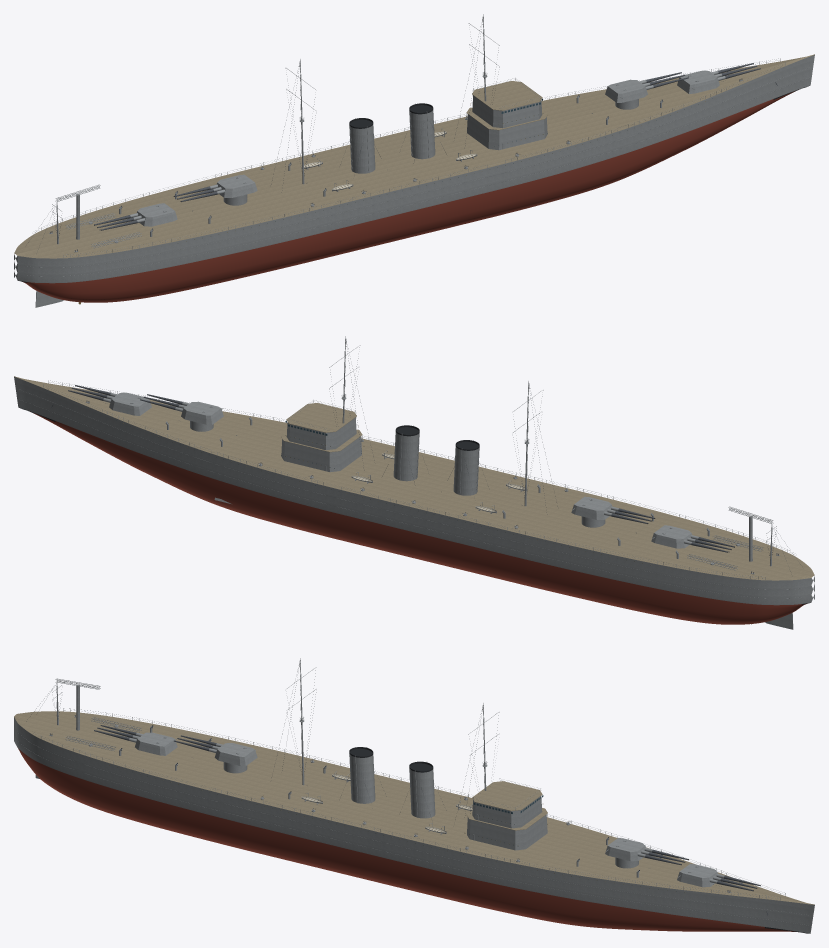
Rendered from missouri_bb23.glb.
3 renders of one model, top to bottom at view 1: azimuth 30°, elevation 25°; view 2: azimuth 150°, elevation 25°; view 3: azimuth 330°, elevation 25°, orthographic.
Parts seen in each view (by area): view 1: Missouri class; view 2: Missouri class; view 3: Missouri class.
Boxes of the visible parts, x1=… form: Missouri class: x1=14, y1=14, x2=814, y2=307; Missouri class: x1=14, y1=336, x2=814, y2=629; Missouri class: x1=14, y1=658, x2=814, y2=933.
Bounding box in the file's own units: 262 × 58.64 × 33.29.
Materials: 8 (2 with a texture image).
